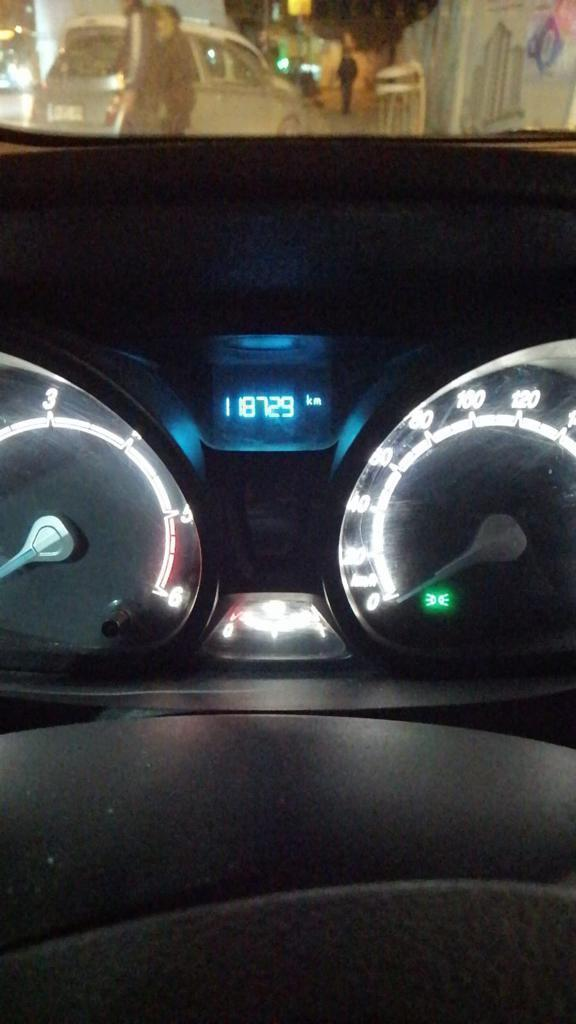1: (225, 396, 230, 416), (238, 396, 242, 417)
2: (268, 395, 280, 417)
7: (255, 396, 268, 417)
8: (242, 396, 255, 417)
9: (280, 395, 294, 417)
X: (306, 393, 312, 406), (312, 397, 321, 405)
odometer: (208, 359, 332, 442)
